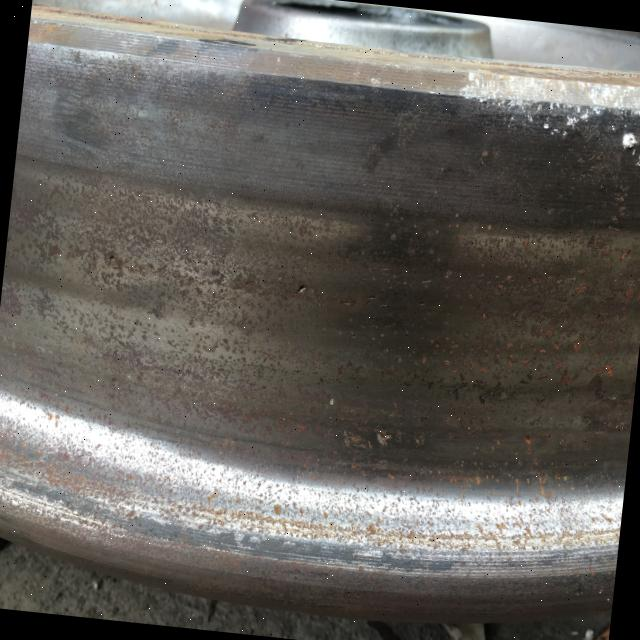Peeling: (374, 430, 393, 451), (296, 281, 314, 295), (105, 253, 117, 269)
